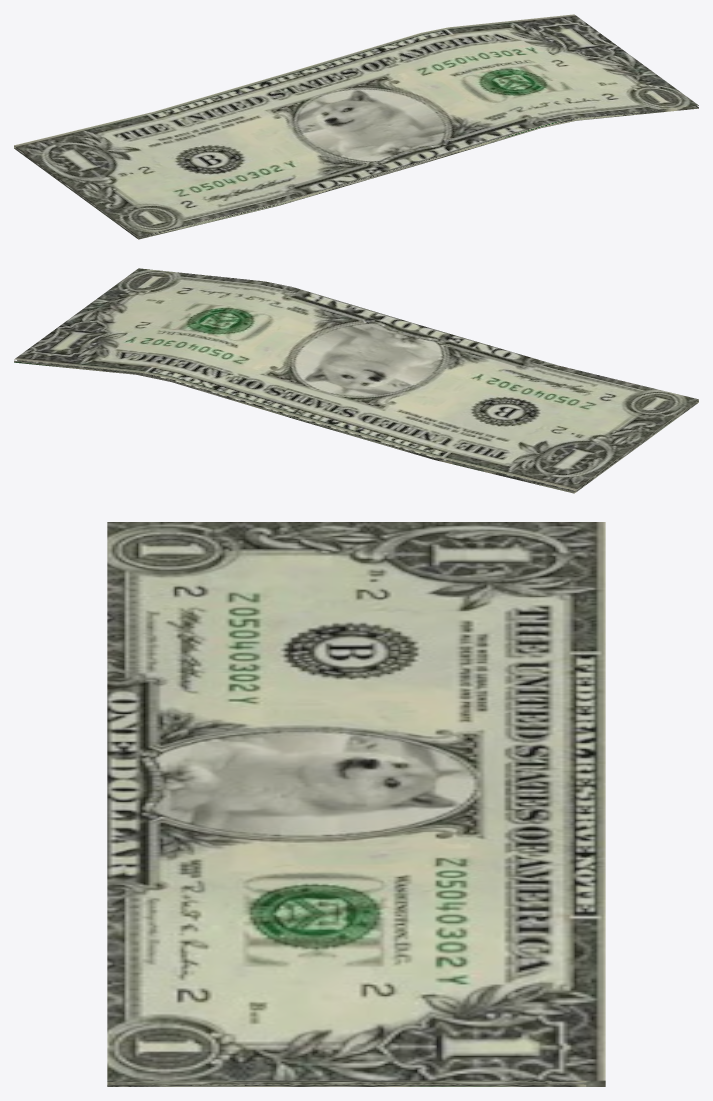
The model's file is Paracik.fbx.
3 views of the same model, one above another, from view 1: azimuth 30°, elevation 25°; view 2: azimuth 150°, elevation 25°; view 3: azimuth 270°, elevation 25° (orthographic). The views are drawn at different scales.
Visible parts, largest first — view 1: pCube1; view 2: pCube1; view 3: pCube1.
Boxes of the visible parts, box(x1,y1,x2,y2) form: pCube1: box(14, 14, 698, 239); pCube1: box(14, 268, 698, 493); pCube1: box(107, 522, 605, 1086).
Size of the model in its own units: 0.795 by 0.03 by 0.306.
